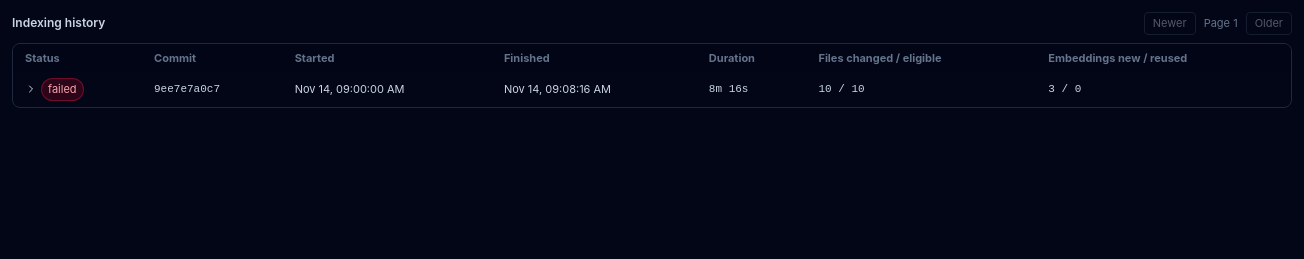
it: JobHistory › shows details and retries a failed job
Later steps or results of the test are not shown.
What coordinates should you click on to do the following:
click the button with aria-label "Show details of job job-bad"
I would click on:
 (54, 89)
Its box is [25,78,84,100].
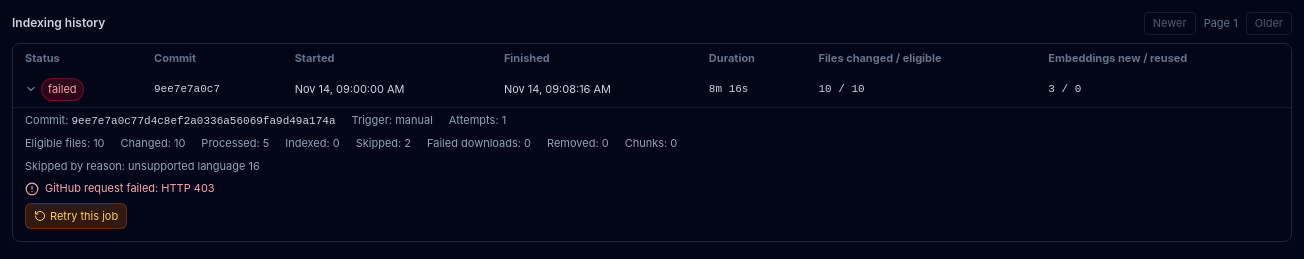
Expected: the message reads "GitHub request failed: HTTP 403", [45,181,215,195]
Expected: the text "Skipped by reason: unsupported language 16" is shown, [25,158,260,172]
